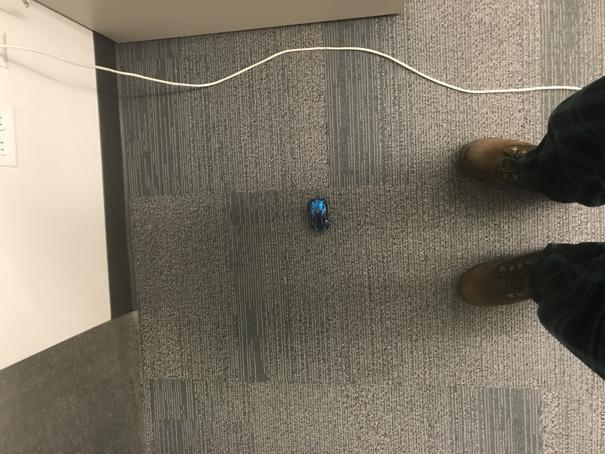Shock: (308, 197, 330, 233)
